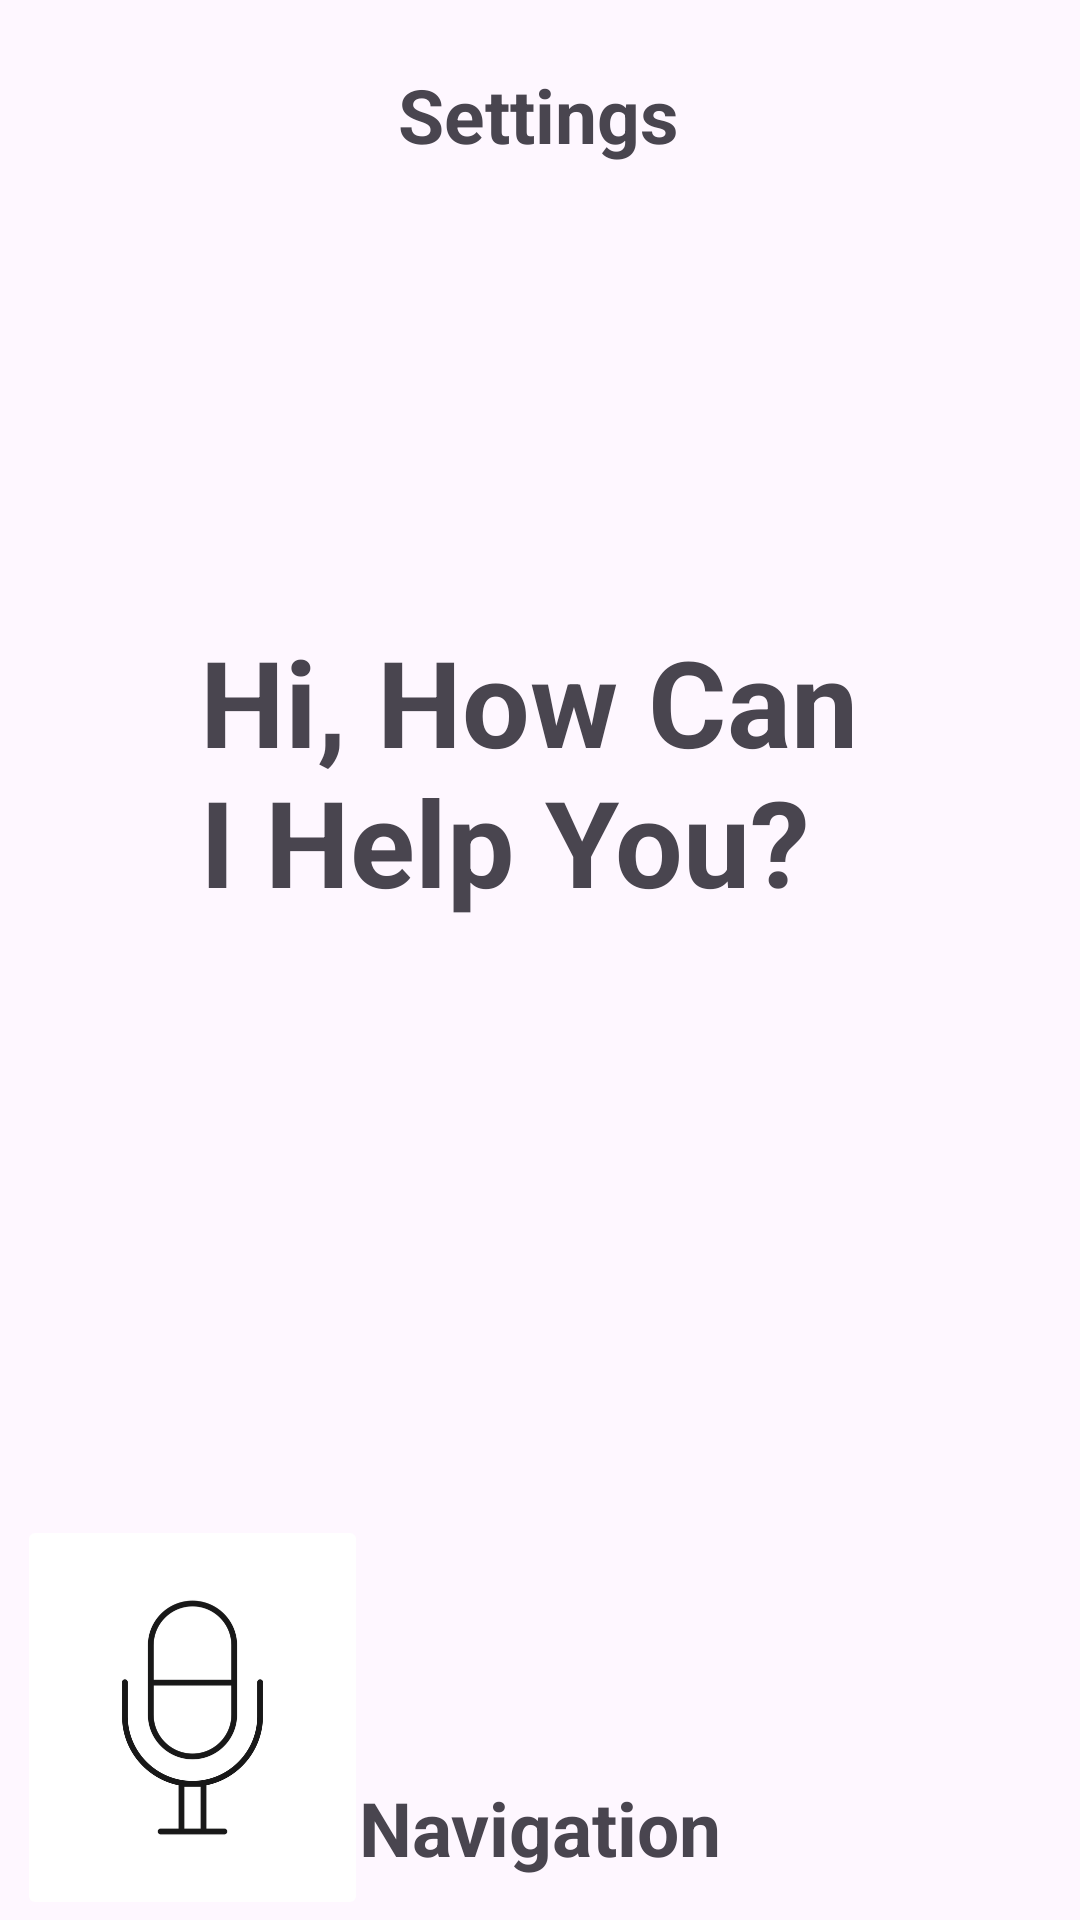

Named icons in this screenshot (1080px×1920px) and their bounding boxes, box(x1, y1, x2, y2):
microphone stroke baca: box(122, 1600, 263, 1835)
